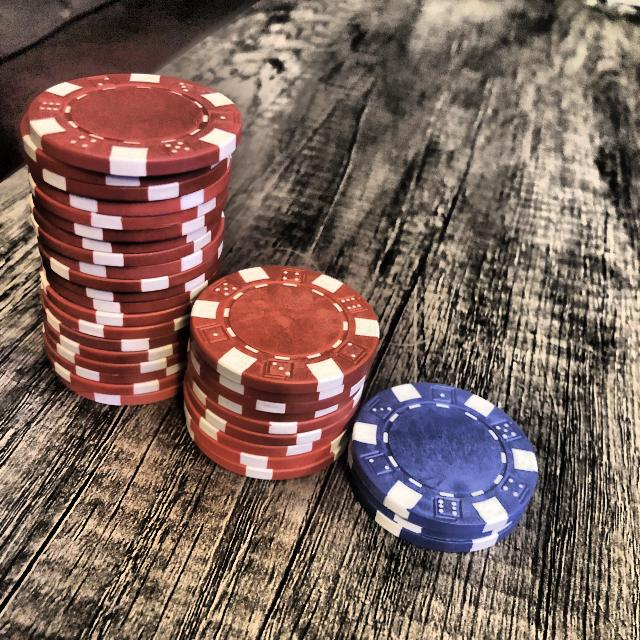Chip: (7, 47, 258, 417), (162, 240, 406, 500), (335, 357, 547, 563)
